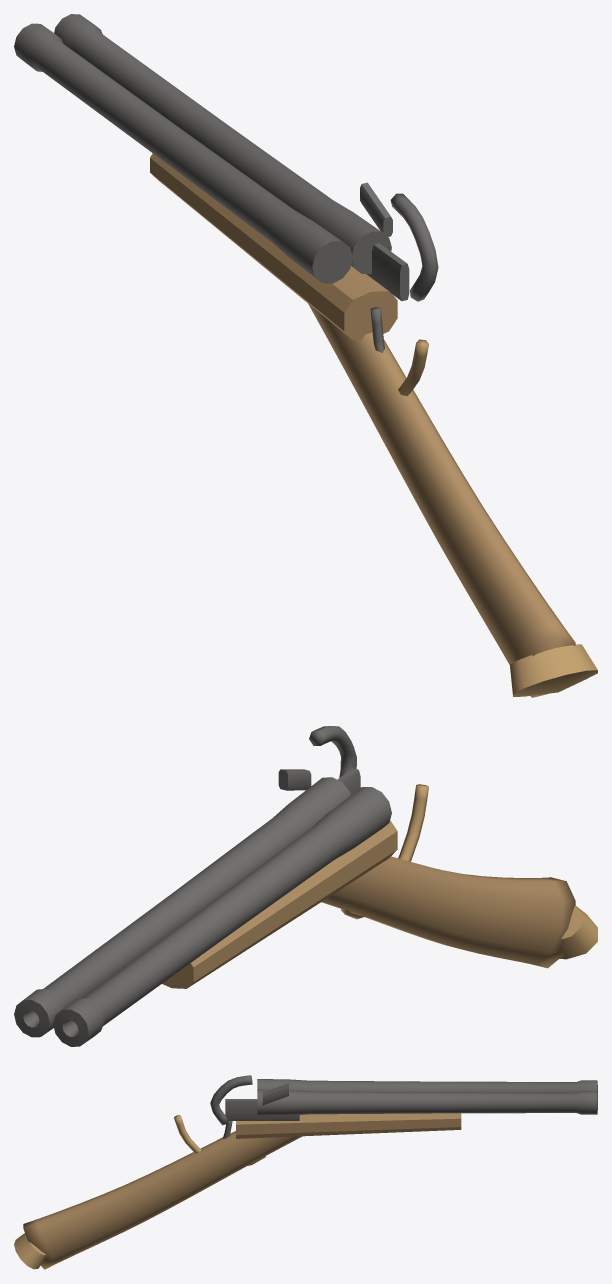
File: double-barreled-pistol.glb
The picture shows the model from 3 angles, top to bottom: view 1: azimuth 30°, elevation 25°; view 2: azimuth 150°, elevation 25°; view 3: azimuth 270°, elevation 25°; orthographic projection. The views are drawn at different scales.
Visible parts, largest first — view 1: double-barreled-pistol; view 2: double-barreled-pistol; view 3: double-barreled-pistol.
Part boxes in pixels (x1,y1,x2,y2): double-barreled-pistol: (14, 14, 597, 697); double-barreled-pistol: (14, 726, 597, 1046); double-barreled-pistol: (14, 1075, 597, 1269).
Bounding box in the file's own units: 0.1111 × 0.4217 × 1.1.
